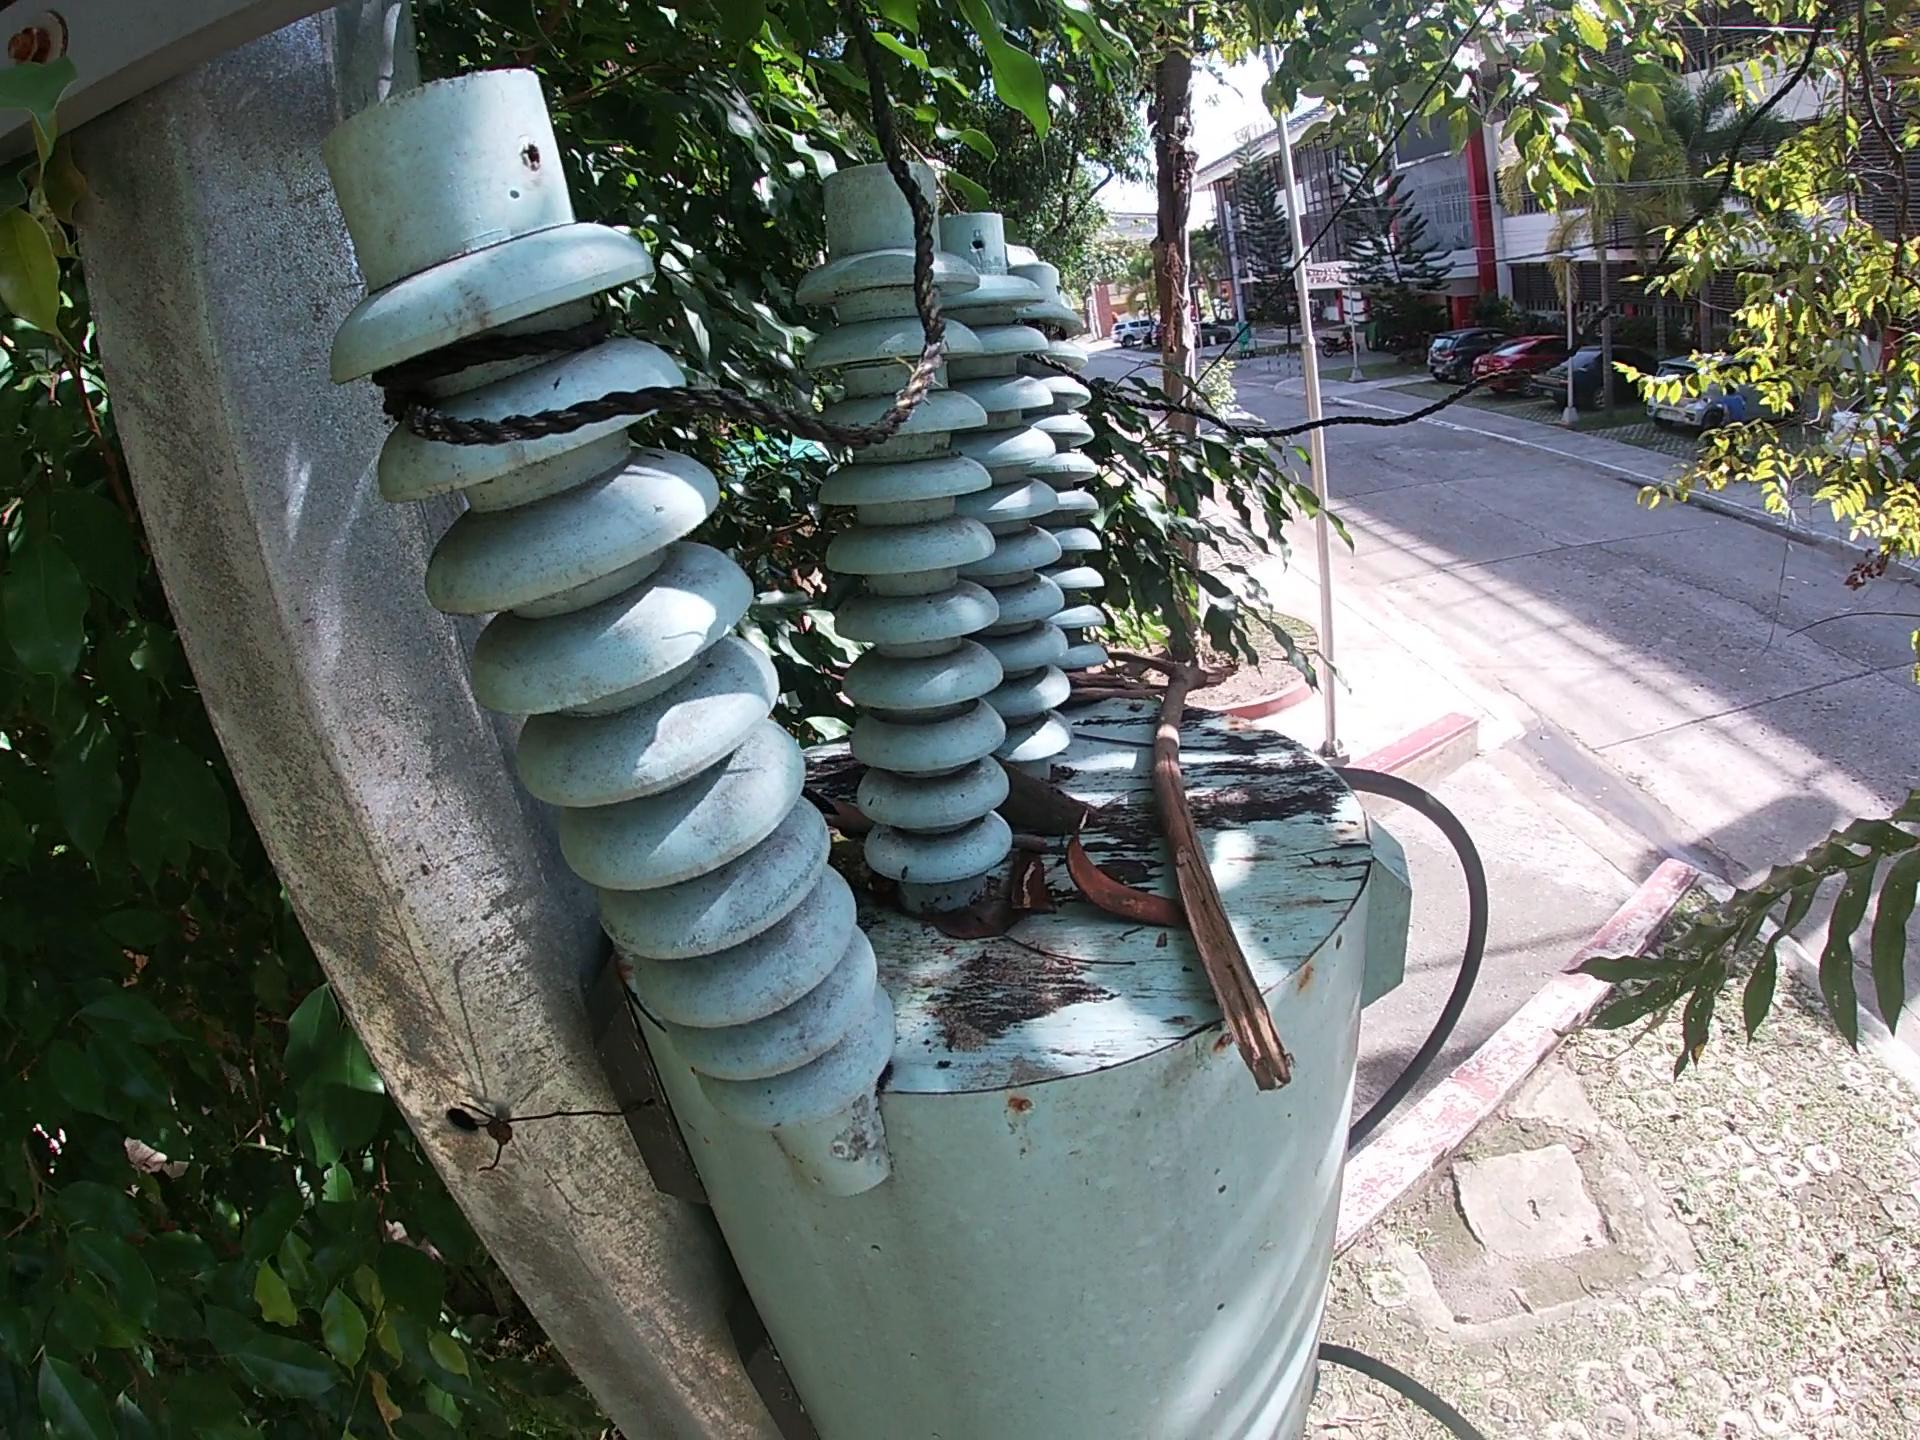leaf: (907, 895, 1001, 950)
mahogany fruit: (1063, 800, 1187, 929), (1004, 777, 1101, 836)
tree branch: (1110, 640, 1321, 1118), (999, 936, 1134, 968), (1002, 843, 1045, 929), (1058, 667, 1166, 700), (831, 849, 895, 900), (1179, 734, 1291, 761), (801, 790, 862, 836), (1073, 728, 1157, 756), (1013, 839, 1061, 853)
